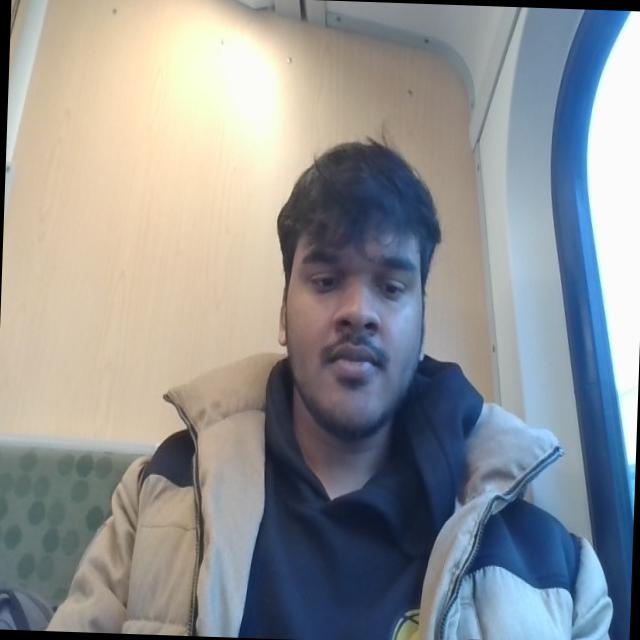no hat: (271, 105, 451, 245)
